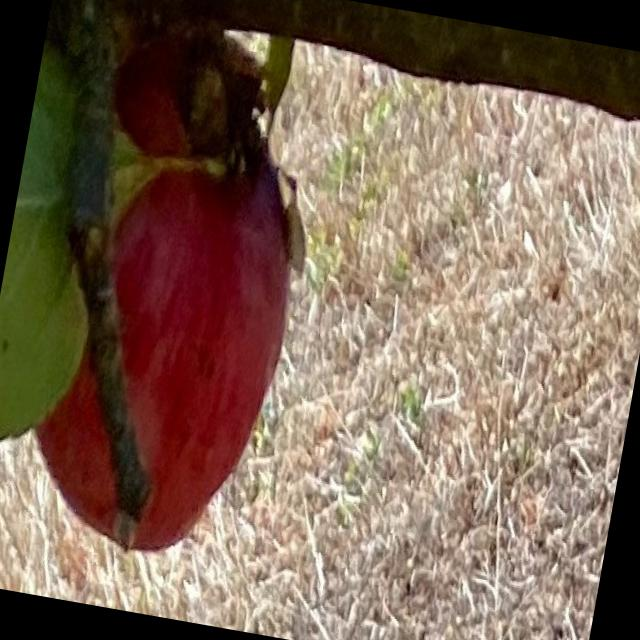Apples: (13, 41, 327, 566)
